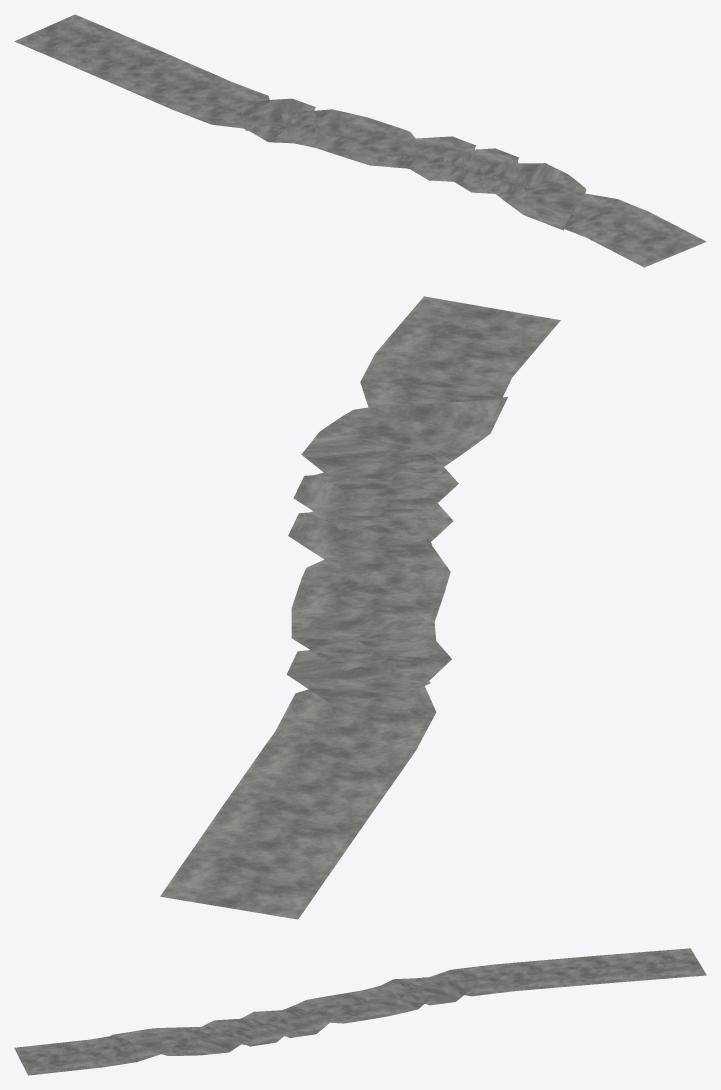
The model's file is RD-ROAD-009.obj.
3 renders of one model, top to bottom at view 1: azimuth 30°, elevation 25°; view 2: azimuth 150°, elevation 25°; view 3: azimuth 270°, elevation 25°, orthographic. The views are drawn at different scales.
Parts seen in each view (by area): view 1: RD-ROAD-009; view 2: RD-ROAD-009; view 3: RD-ROAD-009.
Part boxes in pixels (x1,y1,x2,y2): RD-ROAD-009: [14, 14, 706, 267]; RD-ROAD-009: [160, 296, 560, 919]; RD-ROAD-009: [14, 948, 706, 1075].
Size of the model in its own units: 18.22 by 0.5153 by 40.74.
1 material, 1 textured.
